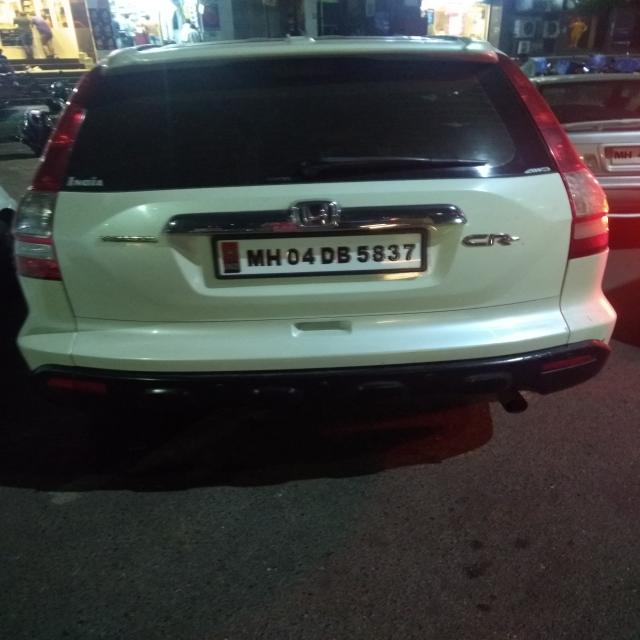Number-Plate: (218, 234, 420, 276)
